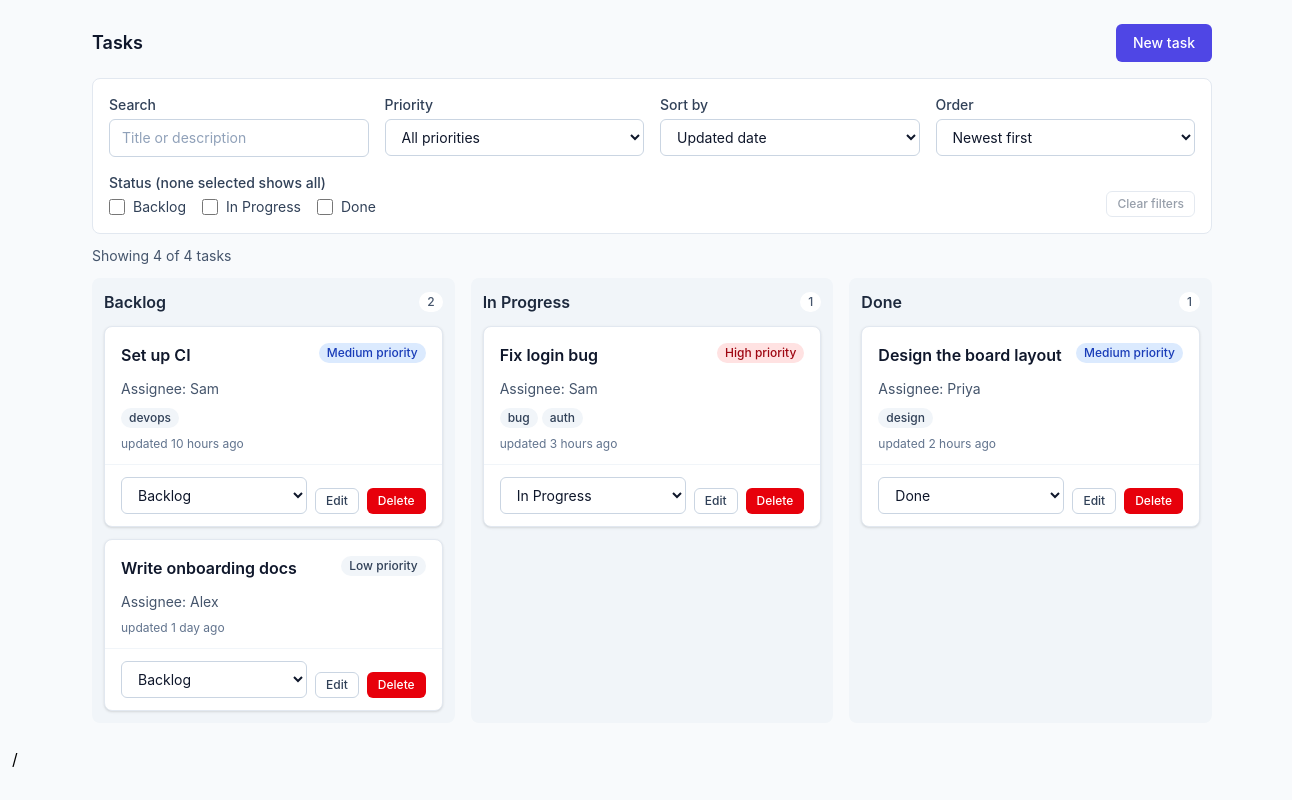
moving a task › moves the card to the new column, saves it, and keeps keyboard focus on its select
Expected: the heading "Set up CI" is shown, [121,343,191,367]
Select "Done" in the dropdown named "Status of Set up CI" below "10 hours ago": (214,496) [121,477,307,514]
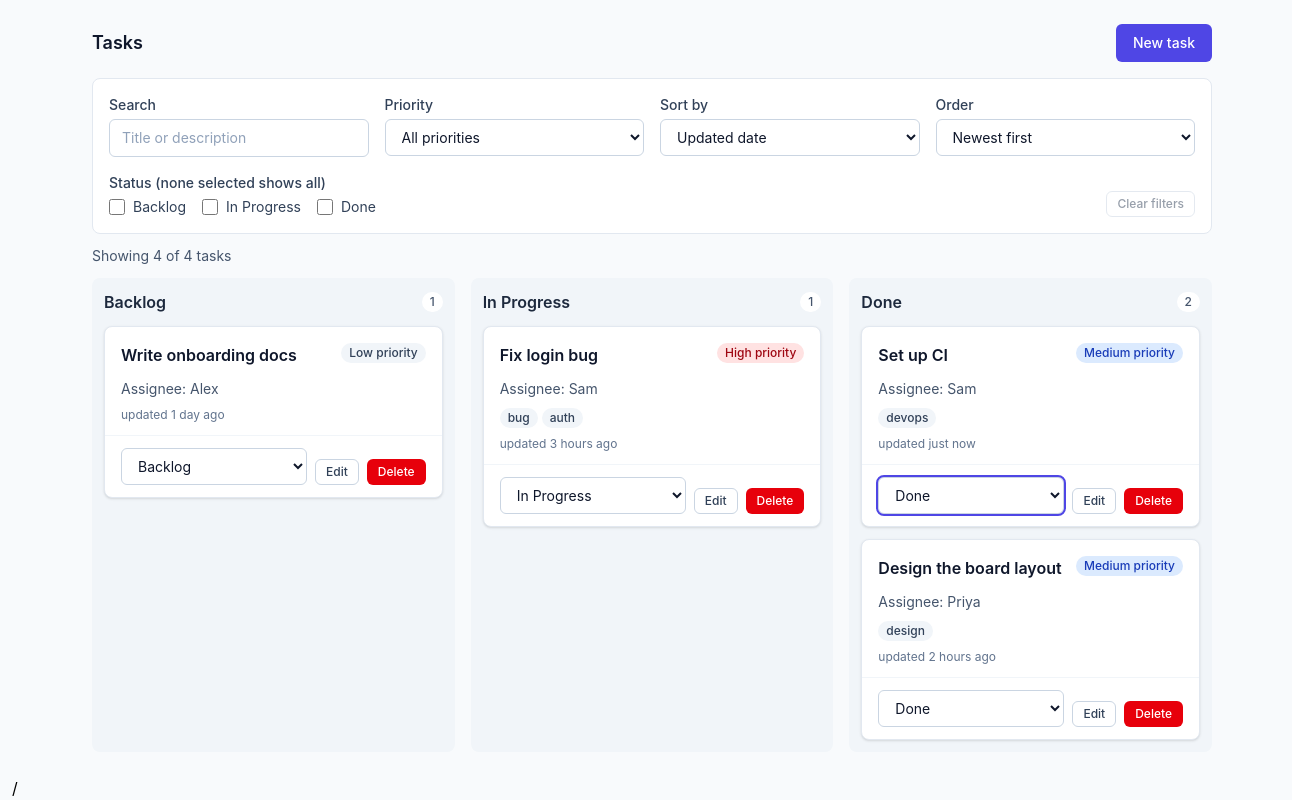
Expected: the heading "Set up CI" is shown, [878,343,948,367]
Now the text "just now" is shown, box [928,436,976,451]
